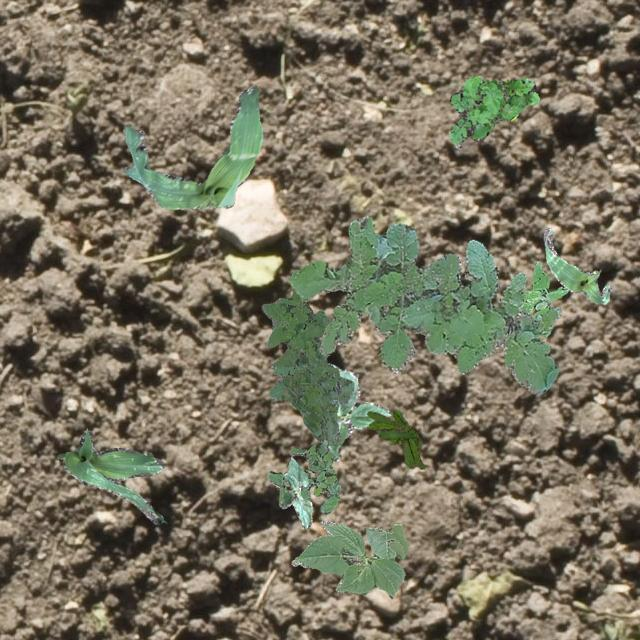crop: (122, 84, 262, 208), (56, 428, 164, 524), (290, 520, 406, 598), (327, 364, 389, 459), (542, 226, 610, 304), (280, 456, 310, 528)
weed: (288, 215, 560, 392), (260, 290, 352, 444), (448, 76, 538, 148), (266, 438, 340, 512), (518, 260, 568, 336), (366, 408, 424, 468)
